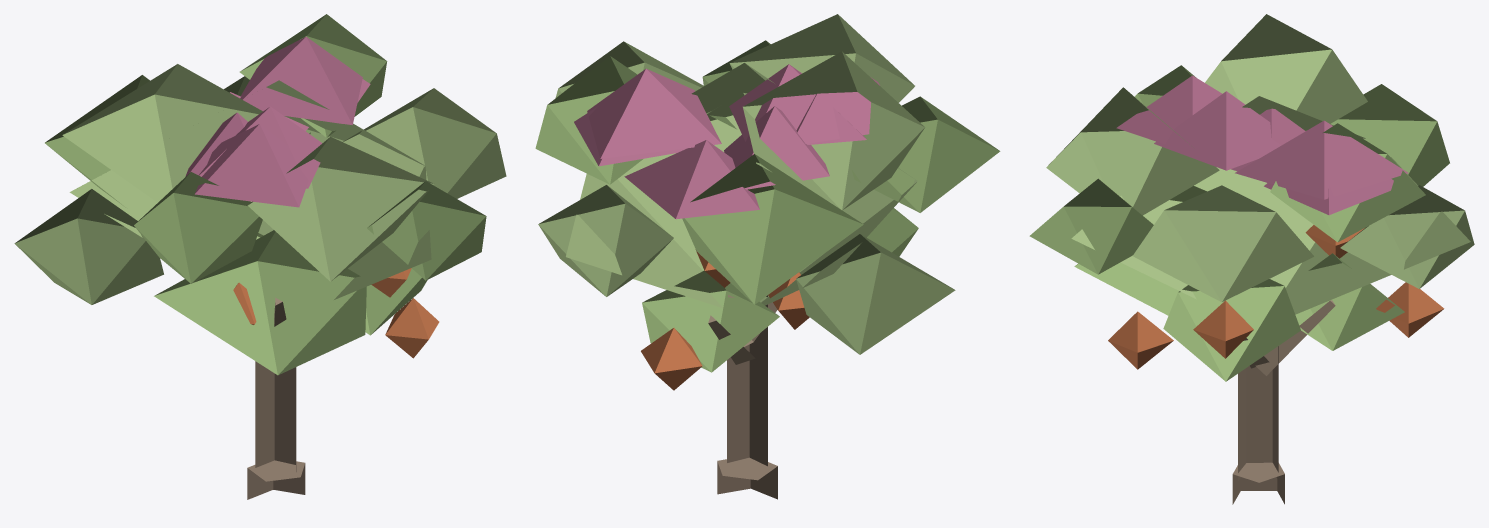
File: tree.trop.mango__bloom.glb
3 renders of one model, left to right at view 1: azimuth 30°, elevation 25°; view 2: azimuth 150°, elevation 25°; view 3: azimuth 270°, elevation 25°, orthographic. The views are drawn at different scales.
Visible parts, largest first — view 1: tree.trop.mango__bloom; view 2: tree.trop.mango__bloom; view 3: tree.trop.mango__bloom.
Part boxes in pixels (x1,y1,x2,y2): tree.trop.mango__bloom: [14, 14, 506, 499]; tree.trop.mango__bloom: [535, 14, 1000, 499]; tree.trop.mango__bloom: [1029, 14, 1474, 504].
Size of the model in its own units: 11.11 by 11.81 by 10.79.
